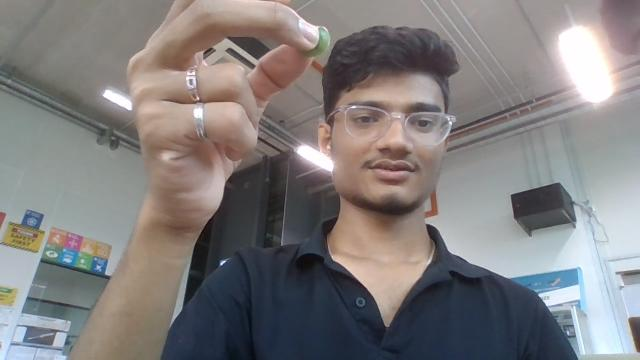Fruit Maturation: (301, 24, 331, 59)
